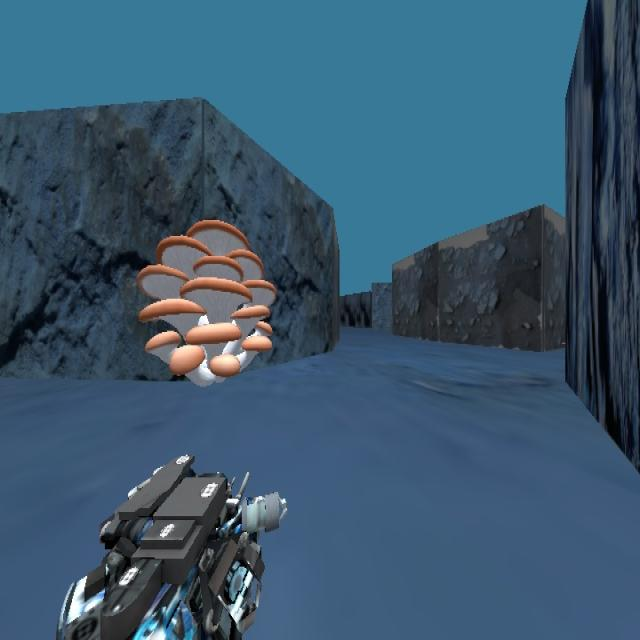Mushroom: (136, 218, 276, 386)
